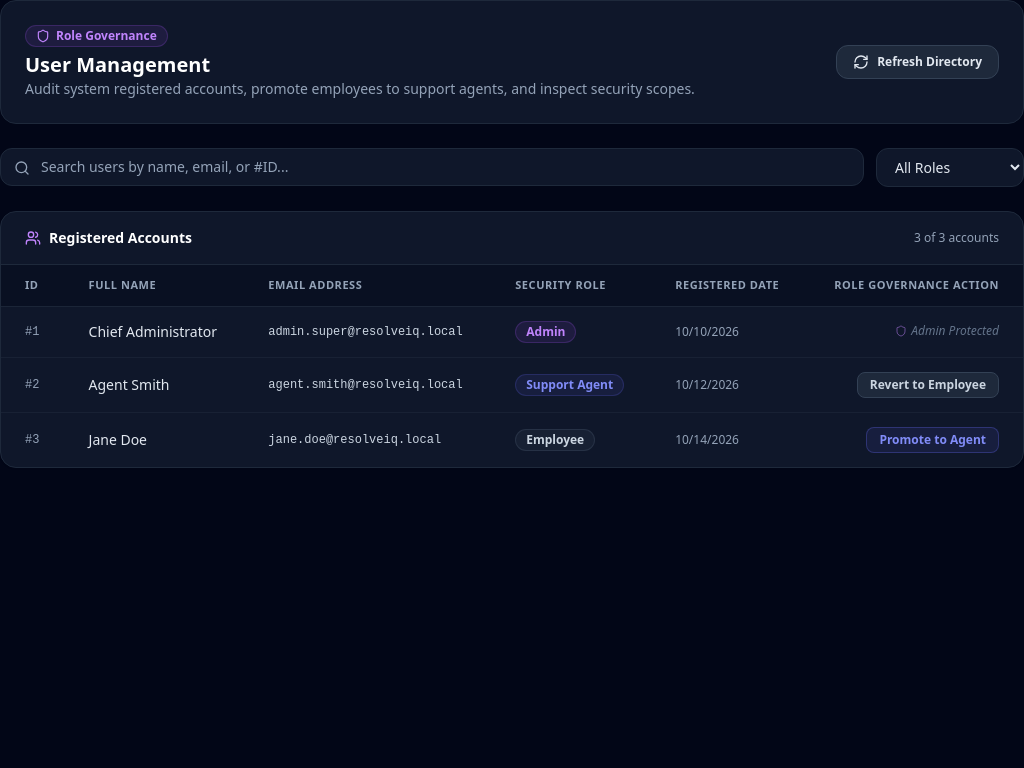
Test: ResolveIQ Batch 10 — Admin Dashboard & Operations Management › Phase 2 — User Management & Safe Role Governance › requires confirmation before submitting role change and reflects success
Expected: the text "Jane Doe" is shown, [65,412,244,466]
# Click "Promote to Agent"
Click the button "Promote to Agent" at (933, 440), box [866,426,999,452]
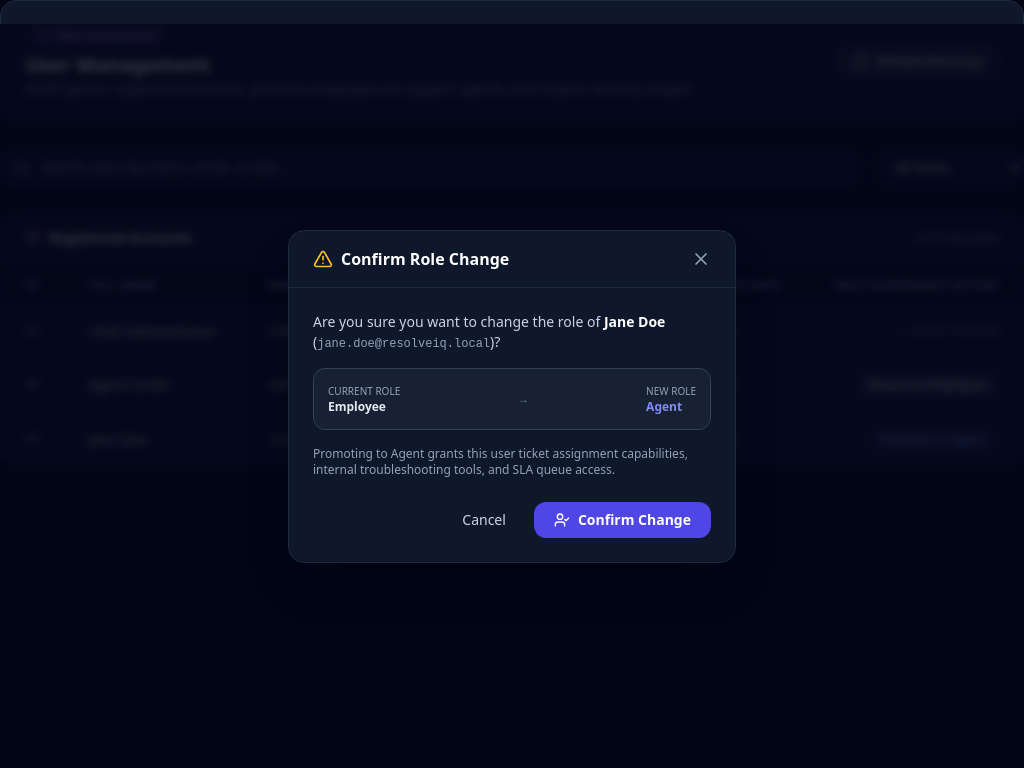
Expected: the heading "Confirm Role Change" is shown, [313,246,509,270]
Expected: the text "Are you sure you want to change the role of" is shown, [313,312,600,330]
# Confirm role change
Click the button "Confirm Change" at (622, 520), box [534,502,711,538]
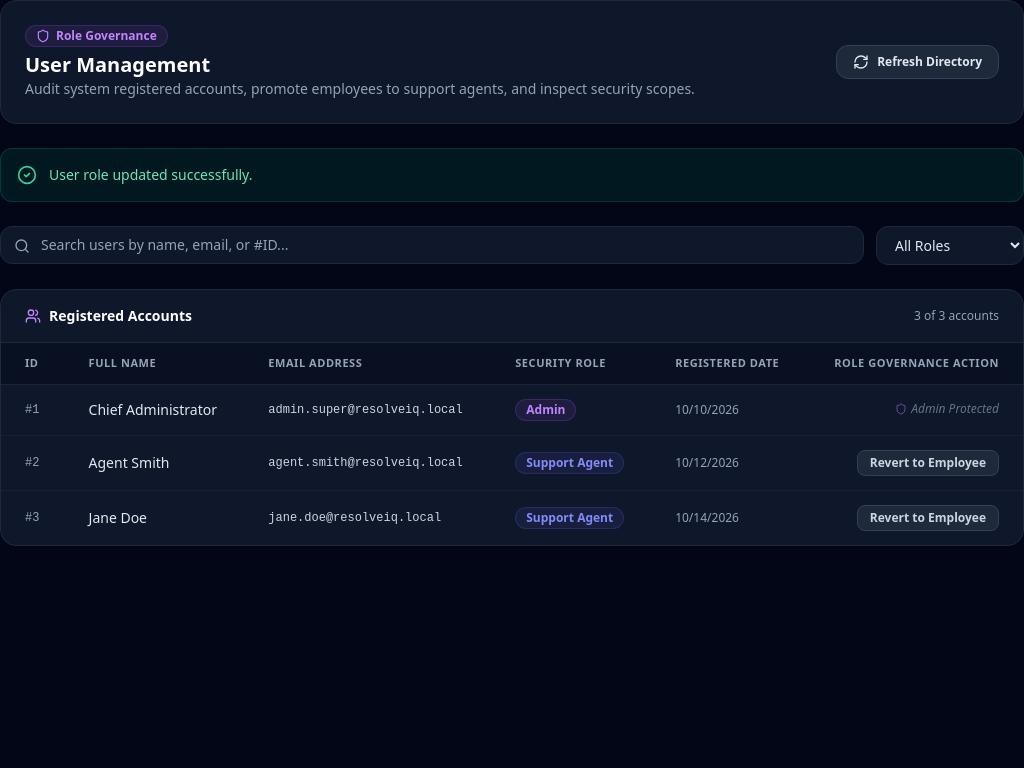
Expected: the heading "Confirm Role Change" is gone
Expected: the text "User role updated successfully." is shown, [49,165,252,185]
